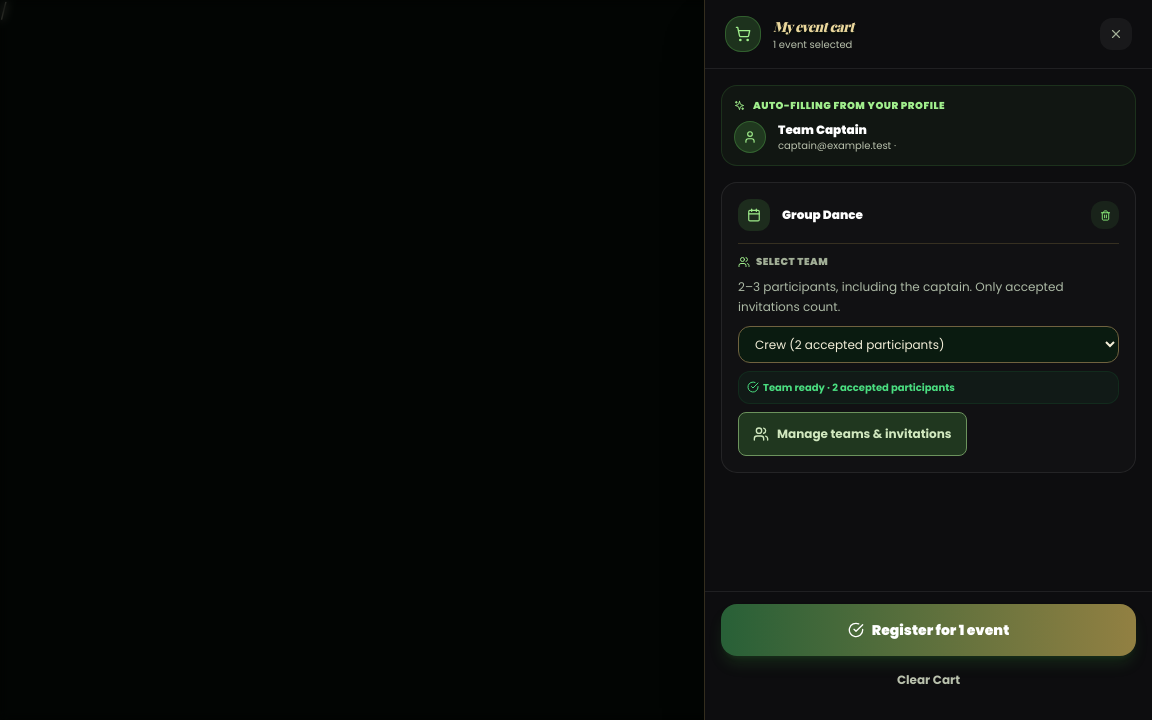
Test: keeps a failed checkout in the cart and offers the correct coordinator conversation
The width and height of the screenshot is (1152, 720).
Click the button "Register for 1 event" at (928, 630), box top-left (721, 604), bottom-right (1136, 656)
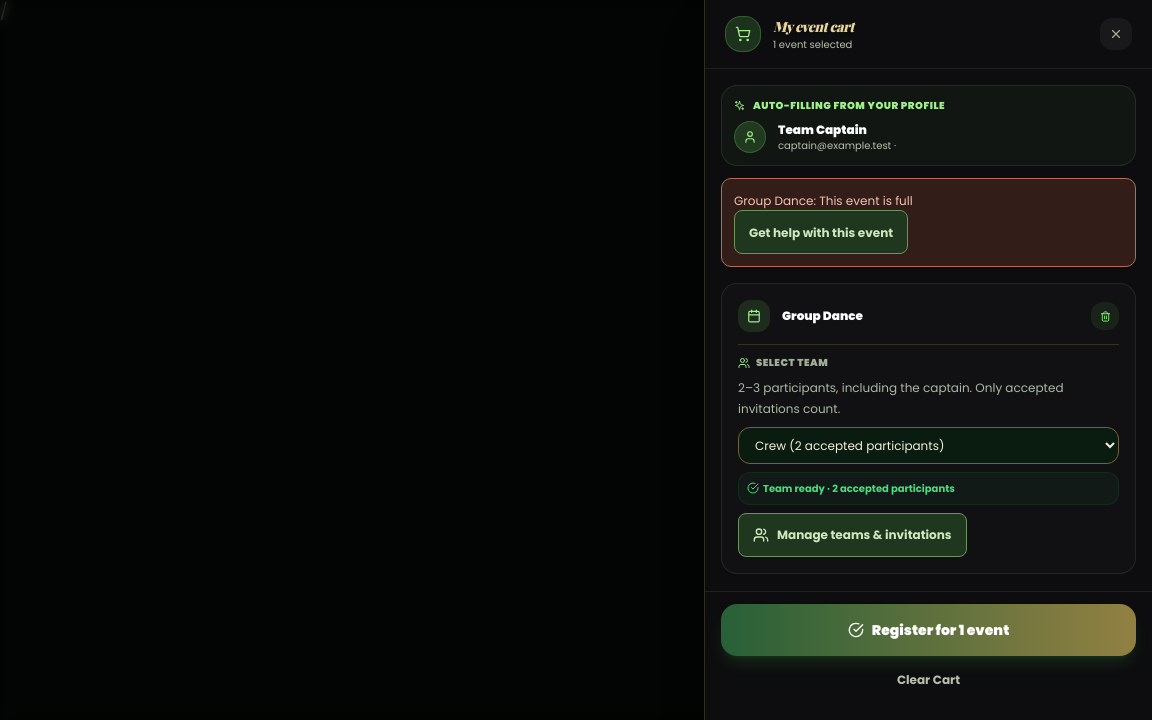
Result: the message "Group Dance: This event is full Get help with this event" is shown at top-left (721, 178), bottom-right (1136, 267)
Click the button "Get help with this event" at (821, 232), box top-left (734, 210), bottom-right (908, 254)
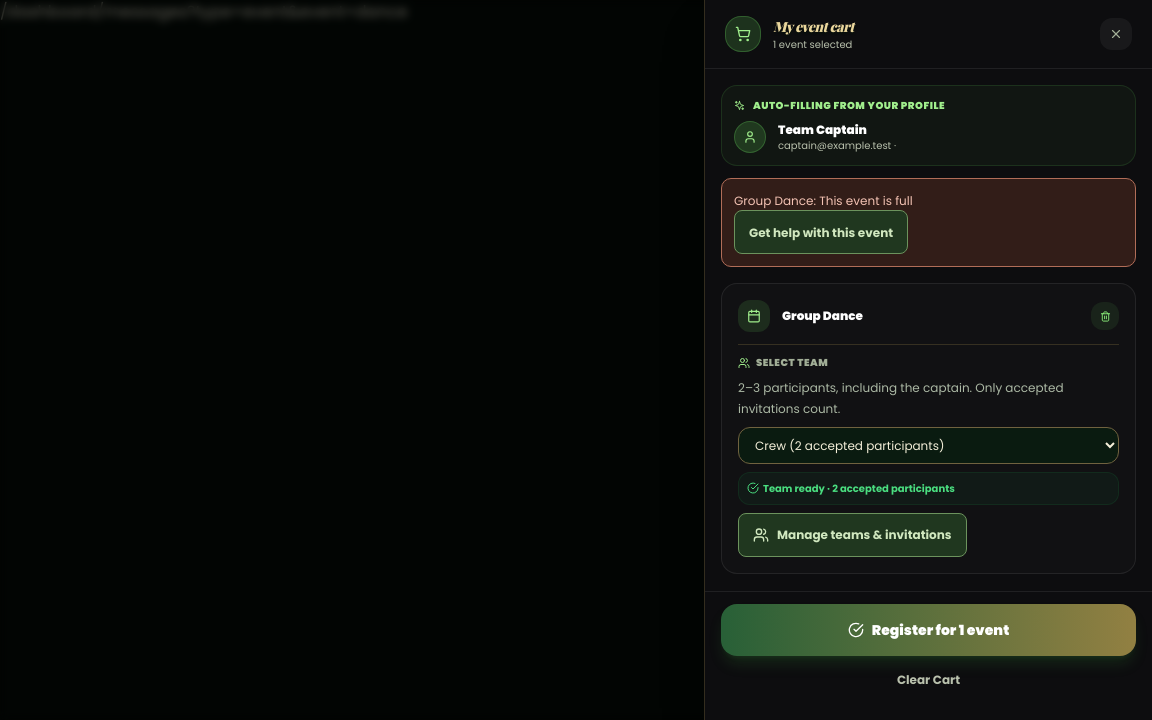
Result: the text "/dashboard/messages?type=event&event=dance" is shown at top-left (0, 0), bottom-right (407, 23)
